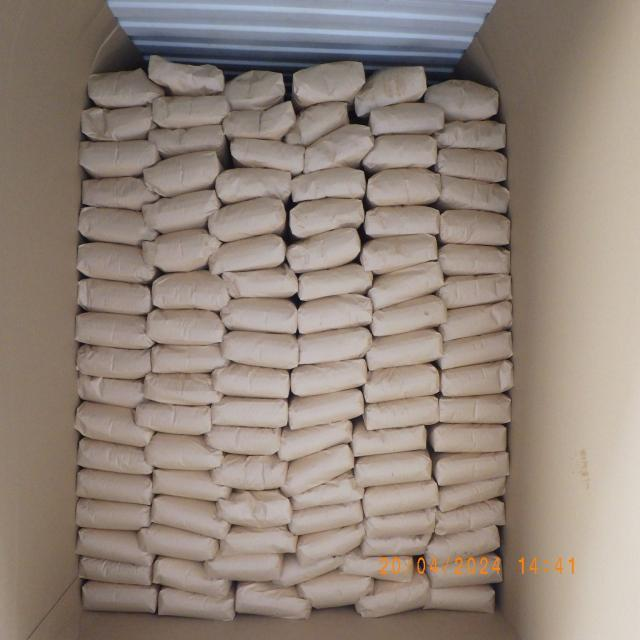gunny_bag: (280, 443, 354, 498), (368, 260, 444, 312), (354, 65, 427, 118), (142, 150, 222, 198), (75, 400, 154, 448), (290, 60, 366, 108), (354, 568, 430, 616), (303, 123, 375, 173), (152, 494, 230, 540), (286, 227, 361, 274), (141, 228, 221, 272), (142, 189, 222, 233), (208, 197, 286, 242), (77, 242, 157, 284), (151, 270, 230, 312), (361, 233, 438, 276), (78, 140, 160, 180), (78, 206, 158, 247), (288, 196, 366, 238), (370, 294, 448, 336), (288, 388, 364, 431), (366, 328, 443, 370), (153, 556, 233, 596), (137, 522, 217, 562), (220, 329, 300, 369), (148, 55, 226, 96), (208, 234, 286, 275), (88, 68, 164, 110), (424, 524, 500, 566), (426, 79, 500, 122), (76, 311, 156, 350), (145, 431, 225, 470), (290, 358, 368, 398), (354, 448, 432, 488), (296, 522, 366, 566), (363, 363, 440, 403), (146, 308, 227, 346), (296, 570, 374, 609), (278, 420, 352, 461), (298, 293, 372, 334), (440, 300, 512, 342), (286, 101, 350, 148), (76, 528, 155, 566), (439, 330, 514, 370), (210, 362, 291, 399), (76, 468, 154, 506), (77, 437, 155, 475), (234, 581, 312, 619), (210, 452, 288, 490), (220, 297, 298, 335), (290, 470, 364, 510), (362, 480, 439, 518), (298, 263, 373, 302), (78, 278, 154, 316), (362, 134, 438, 172), (222, 101, 296, 140), (423, 553, 503, 589), (216, 166, 291, 204), (297, 327, 372, 365), (366, 168, 441, 206), (216, 489, 293, 526), (351, 421, 428, 458), (81, 106, 157, 143), (438, 360, 514, 397), (158, 586, 236, 622), (438, 175, 510, 214), (337, 546, 414, 582), (230, 137, 304, 174), (76, 496, 152, 532), (76, 344, 152, 380), (152, 94, 228, 130), (290, 167, 366, 203), (434, 498, 506, 536), (143, 372, 223, 406), (364, 394, 439, 430), (437, 273, 512, 309), (288, 500, 364, 535), (81, 580, 159, 614), (134, 402, 212, 436), (152, 468, 232, 501), (364, 204, 441, 238), (368, 102, 445, 136), (433, 452, 510, 486), (81, 177, 160, 210), (439, 208, 511, 244), (77, 373, 149, 408), (437, 243, 511, 277), (148, 124, 226, 156), (210, 396, 288, 428), (435, 148, 508, 182), (202, 424, 282, 455), (224, 70, 286, 110), (437, 477, 507, 512), (150, 343, 229, 374), (222, 266, 298, 298), (219, 526, 298, 556), (428, 422, 507, 452), (78, 555, 154, 586), (438, 393, 512, 424), (203, 554, 284, 582), (274, 554, 344, 586), (423, 584, 495, 615), (434, 120, 506, 150), (364, 510, 436, 537), (360, 536, 432, 556), (298, 152, 299, 154)
